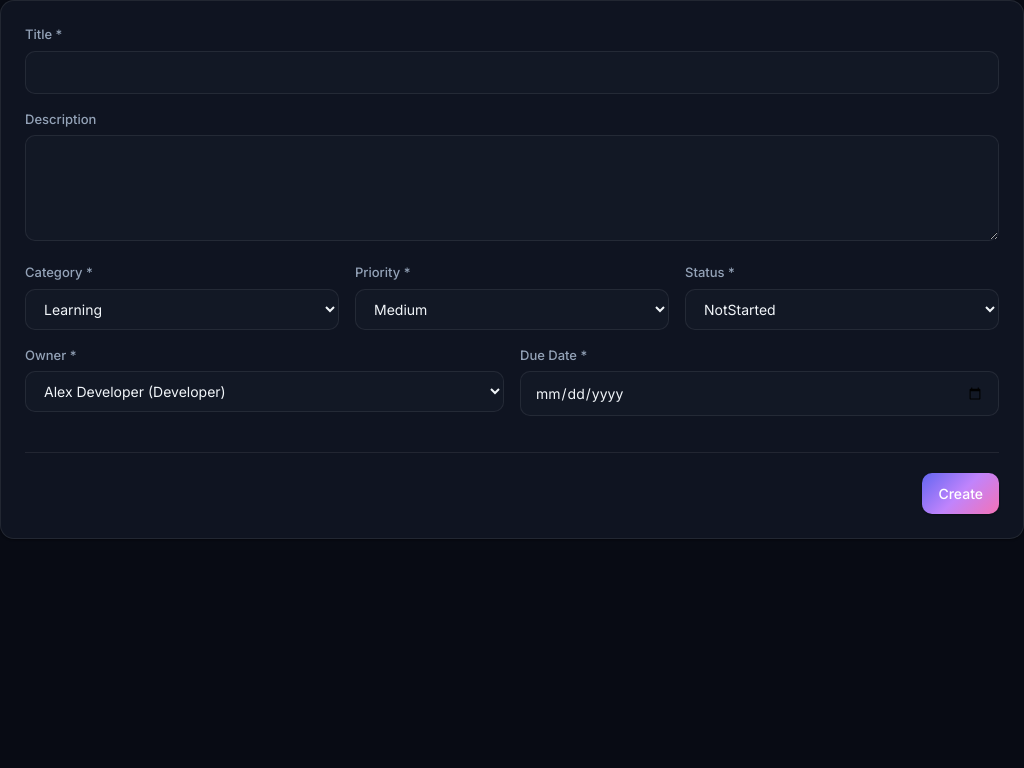
Scenario: TaskForm › shows validation error when title is empty
Click the button "Create" at (961, 494), box [922,473,999,514]
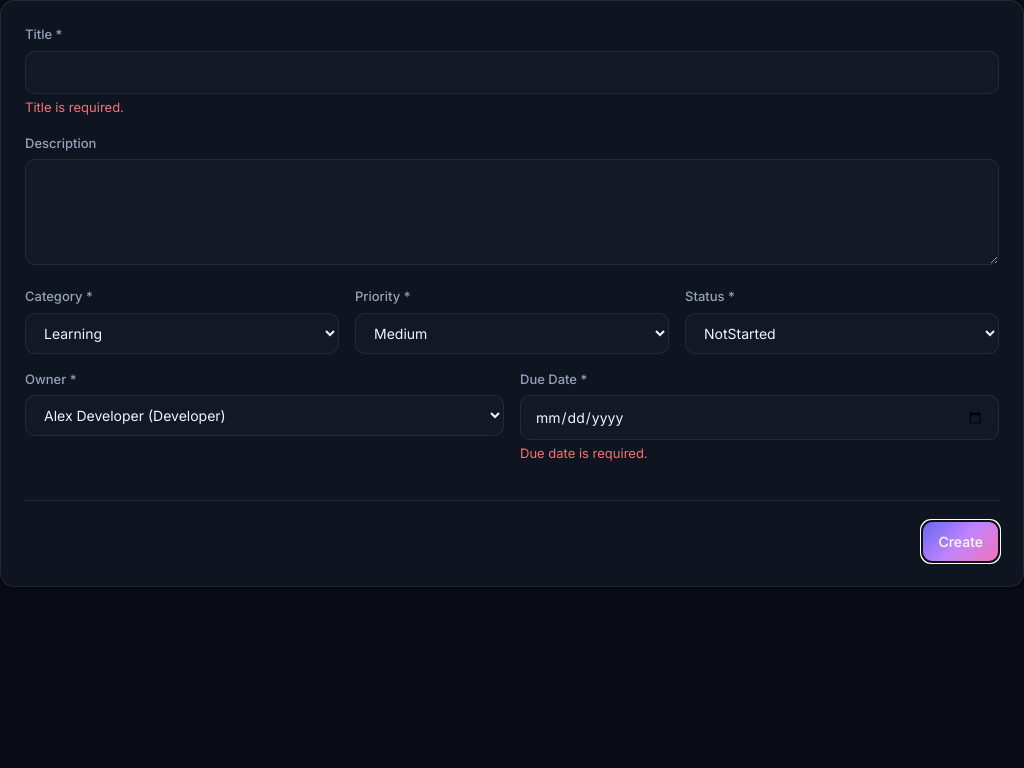
Check: the text "Title is required." is shown, box [25,98,124,114]
